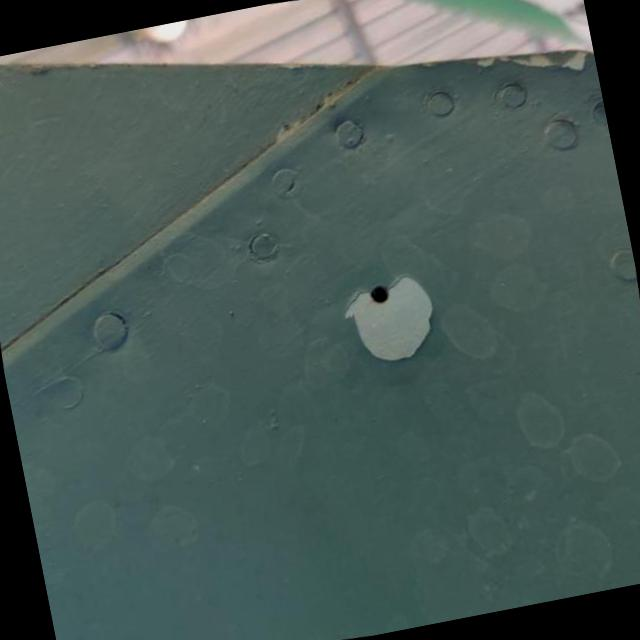Missing Fastener: (360, 278, 408, 310)
